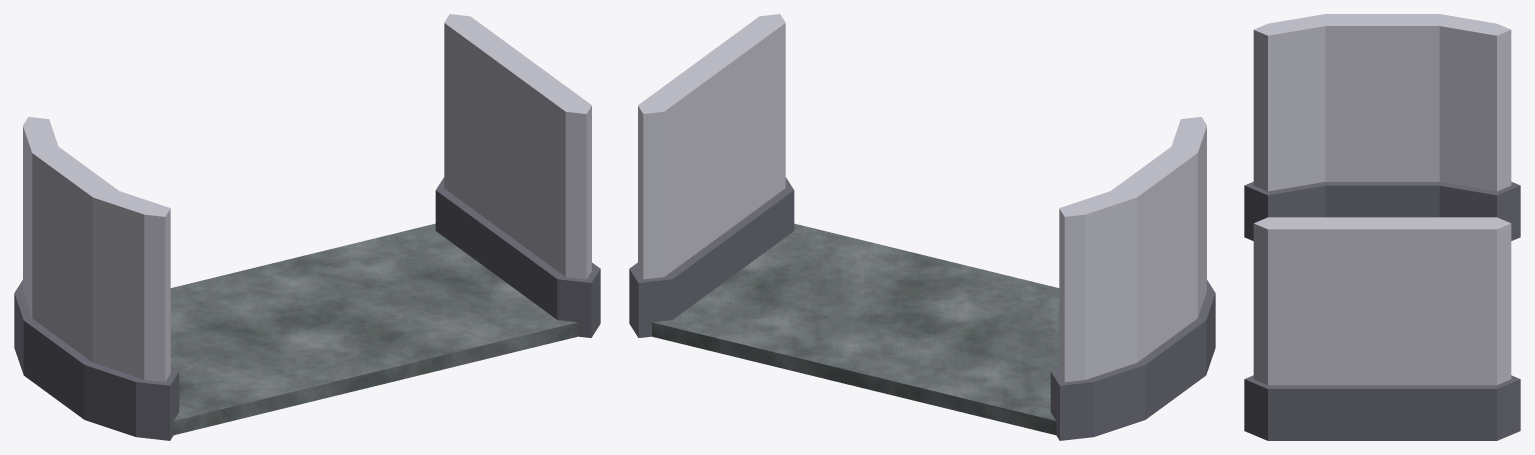
File: hallway_short_04.fbx
3 renders of one model, left to right at view 1: azimuth 30°, elevation 25°; view 2: azimuth 150°, elevation 25°; view 3: azimuth 270°, elevation 25°, orthographic. The views are drawn at different scales.
Parts seen in each view (by area): view 1: floor_05_99, wall_03_101, wall_01_102; view 2: floor_05_99, wall_03_101, wall_01_102; view 3: wall_01_102, wall_03_101.
Boxes of the visible parts, bbox=[...] form: floor_05_99: bbox=[170, 223, 577, 435]; wall_03_101: bbox=[14, 117, 179, 440]; wall_01_102: bbox=[435, 14, 600, 337]; floor_05_99: bbox=[652, 223, 1059, 435]; wall_03_101: bbox=[1050, 117, 1215, 440]; wall_01_102: bbox=[629, 14, 794, 337]; wall_01_102: bbox=[1244, 217, 1520, 440]; wall_03_101: bbox=[1244, 14, 1520, 240].
Size of the model in its own units: 23.05 by 10 by 12.05.
